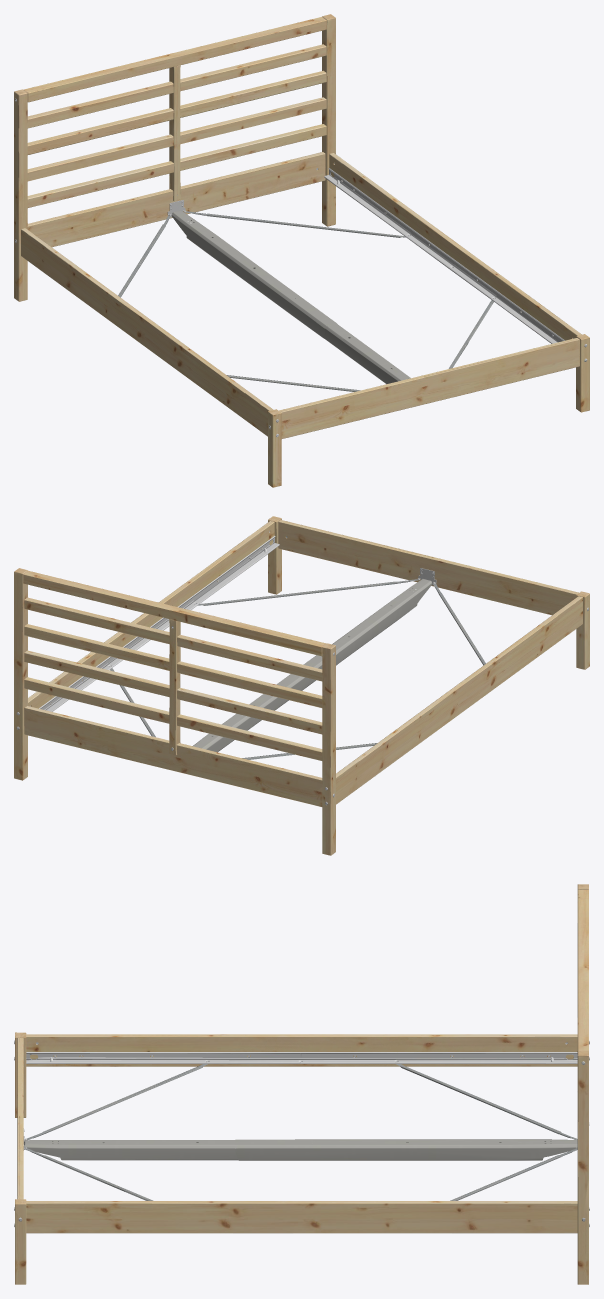
File: tarva_bed_frame_pine.glb
The picture shows the model from 3 angles, top to bottom: view 1: azimuth 30°, elevation 25°; view 2: azimuth 150°, elevation 25°; view 3: azimuth 270°, elevation 25°; orthographic projection. The views are drawn at different scales.
Parts seen in each view (by area): view 1: geo1; view 2: geo1; view 3: geo1.
Boxes of the visible parts, x1,y1,x2,y2 form: geo1: (14, 14, 589, 487); geo1: (14, 516, 589, 855); geo1: (14, 884, 589, 1284).
Bounding box in the file's own units: 1.47 × 0.9134 × 2.08.
1 material, 1 textured.
